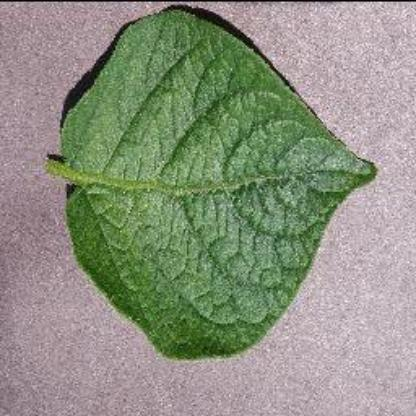Healthy-plant: (38, 6, 382, 372)
